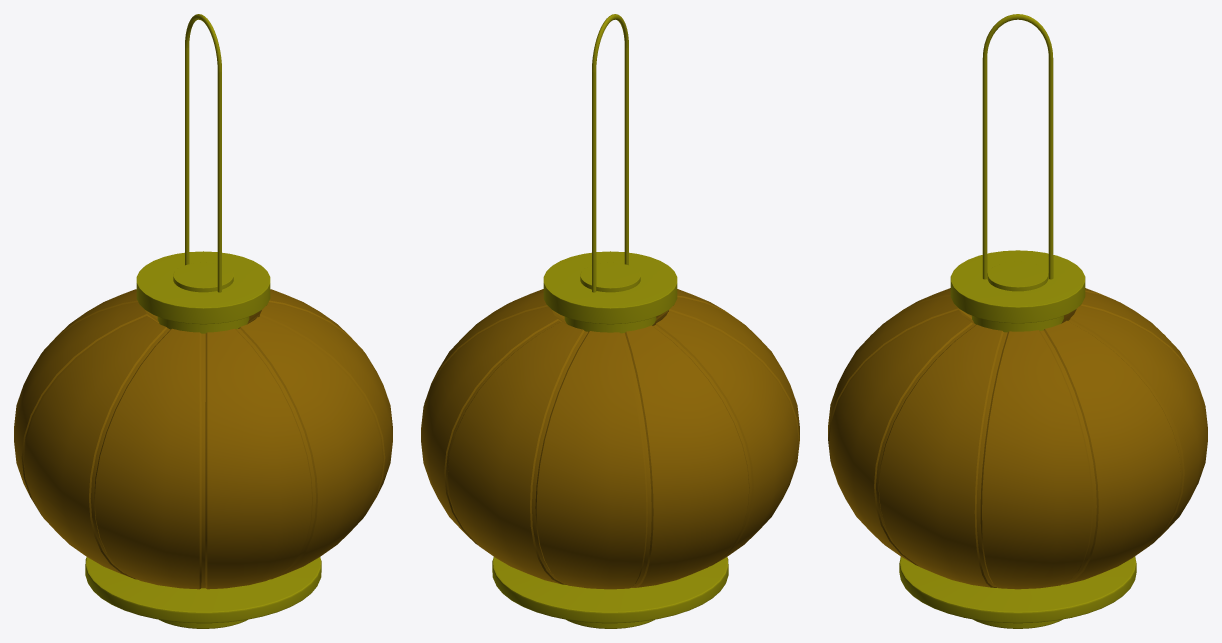
The model's file is lantern.fbx.
3 renders of one model, left to right at view 1: azimuth 30°, elevation 25°; view 2: azimuth 150°, elevation 25°; view 3: azimuth 270°, elevation 25°, orthographic.
Visible parts, largest first — view 1: lantern_middle1, lantern_top1, lantern_bottom1, lantern_hook1; view 2: lantern_middle1, lantern_top1, lantern_bottom1, lantern_hook1; view 3: lantern_middle1, lantern_top1, lantern_bottom1, lantern_hook1.
Part boxes in pixels (x1=…): lantern_middle1: x1=14, y1=289, x2=392, y2=589; lantern_top1: x1=136, y1=251, x2=270, y2=333; lantern_bottom1: x1=85, y1=557, x2=321, y2=628; lantern_hook1: x1=185, y1=14, x2=221, y2=292; lantern_middle1: x1=421, y1=289, x2=799, y2=589; lantern_top1: x1=543, y1=251, x2=677, y2=333; lantern_bottom1: x1=492, y1=557, x2=728, y2=628; lantern_hook1: x1=592, y1=14, x2=628, y2=292; lantern_middle1: x1=828, y1=288, x2=1207, y2=589; lantern_top1: x1=950, y1=250, x2=1085, y2=332; lantern_bottom1: x1=899, y1=556, x2=1136, y2=628; lantern_hook1: x1=982, y1=14, x2=1053, y2=279.
Size of the model in its own units: 3.99 by 6.82 by 3.97.
